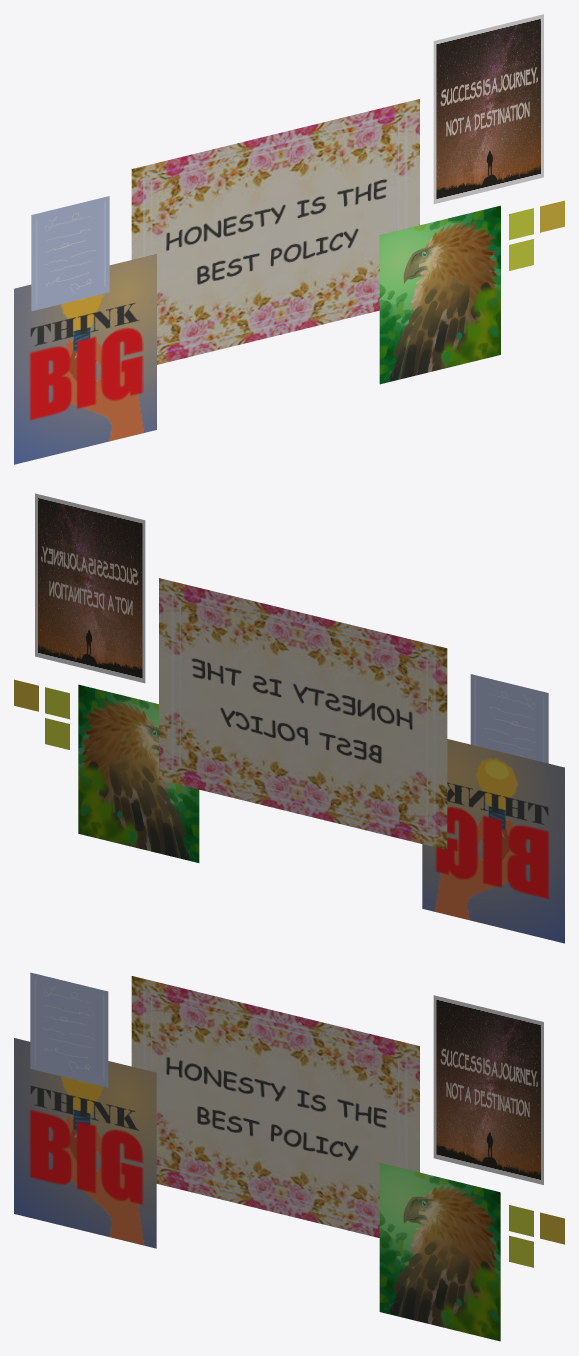
Rendered from poster b 1.fbx.
3 views of the same model, one above another, from view 1: azimuth 30°, elevation 25°; view 2: azimuth 150°, elevation 25°; view 3: azimuth 330°, elevation 25° (orthographic).
Parts seen in each view (by area): view 1: Plane.005; view 2: Plane.005; view 3: Plane.005.
Boxes of the visible parts, box(x1,y1,x2,y2) form: Plane.005: box(14, 14, 564, 464); Plane.005: box(14, 493, 564, 943); Plane.005: box(14, 972, 564, 1341).
Size of the model in its own units: 830 by 475 by 1.87.
